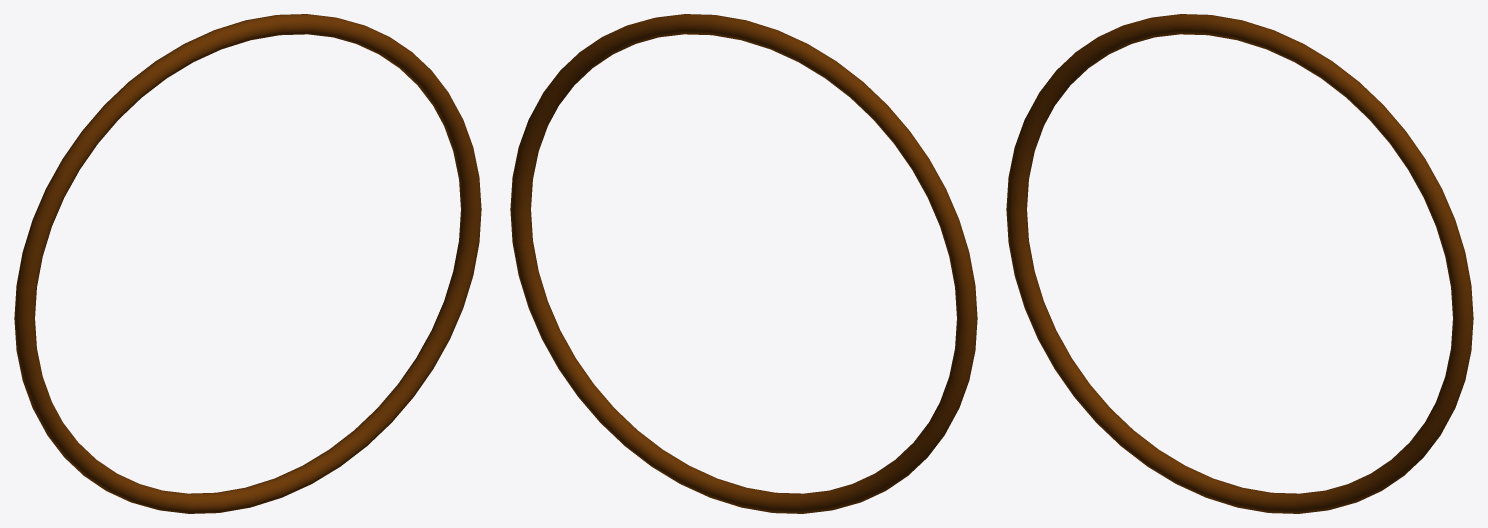
The model's file is aspire-transformed.glb.
3 views of the same model, side by side, from view 1: azimuth 30°, elevation 25°; view 2: azimuth 150°, elevation 25°; view 3: azimuth 330°, elevation 25° (orthographic).
Visible parts, largest first — view 1: ASPIRE; view 2: ASPIRE; view 3: ASPIRE.
Boxes of the visible parts, left/top/right/bottom form: ASPIRE: left=14, top=14, right=481, bottom=513; ASPIRE: left=510, top=14, right=977, bottom=513; ASPIRE: left=1006, top=14, right=1473, bottom=513.
Size of the model in its own units: 555 by 555 by 21.33.
